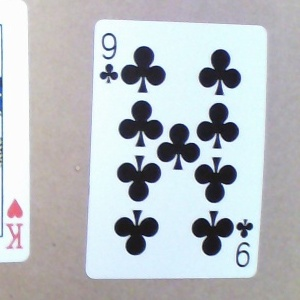card: (84, 18, 268, 282)
